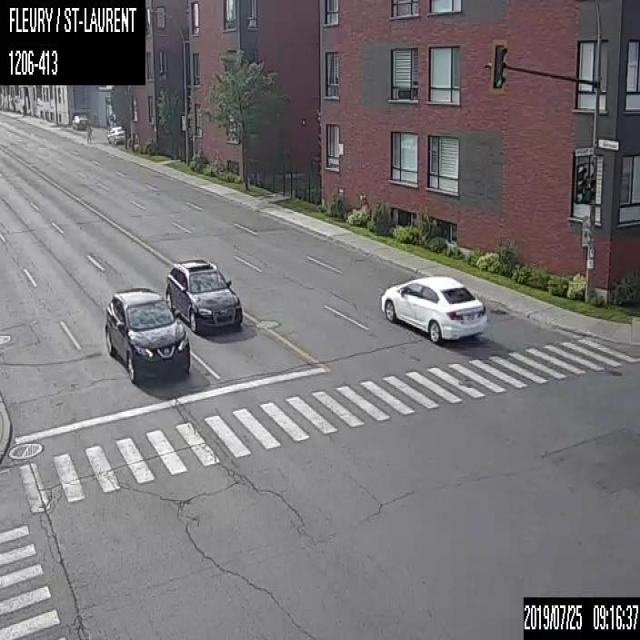pedestrian: (85, 126, 93, 146)
vehicle: (101, 287, 190, 384), (378, 272, 487, 344), (165, 259, 241, 334)
